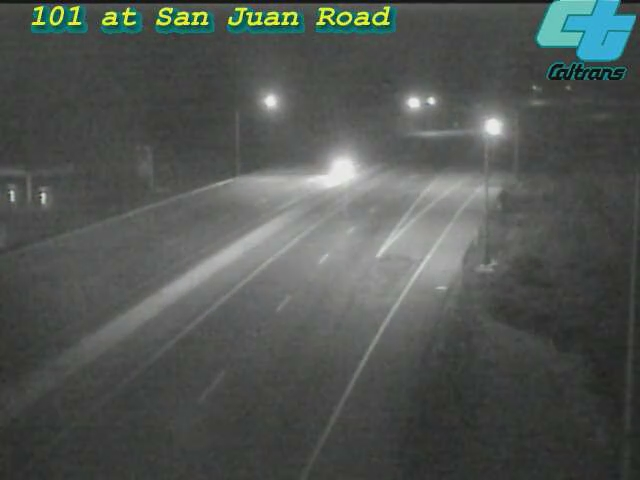vehicle: (297, 129, 377, 209), (460, 102, 510, 152)
